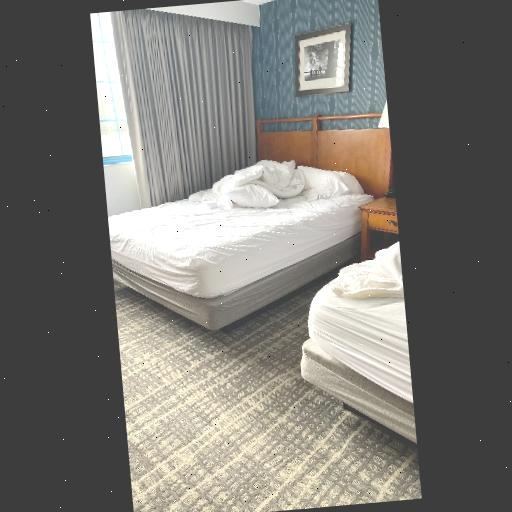Disorganized_pillow: (212, 157, 365, 205)
clean_floor: (111, 278, 422, 512)
messy_bed: (105, 116, 388, 330)
